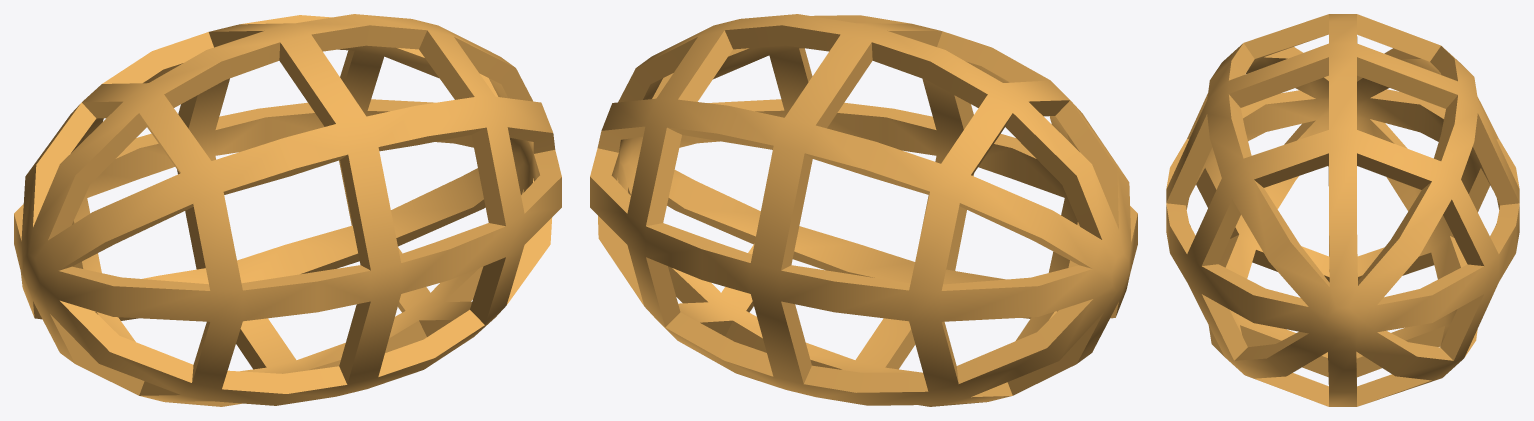
The model's file is OvalMesh_01.fbx.
3 renders of one model, left to right at view 1: azimuth 30°, elevation 25°; view 2: azimuth 150°, elevation 25°; view 3: azimuth 270°, elevation 25°, orthographic. The views are drawn at different scales.
Parts seen in each view (by area): view 1: OvalMesh_01; view 2: OvalMesh_01; view 3: OvalMesh_01.
Boxes of the visible parts, x1=… form: OvalMesh_01: x1=14, y1=14, x2=561, y2=406; OvalMesh_01: x1=590, y1=14, x2=1137, y2=406; OvalMesh_01: x1=1166, y1=14, x2=1519, y2=406.
Size of the model in its own units: 406 by 268 by 268.
